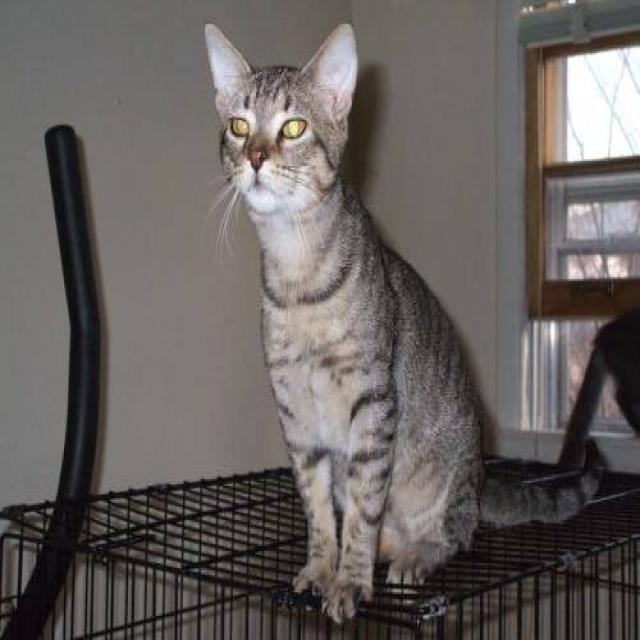cat: (202, 18, 603, 624)
